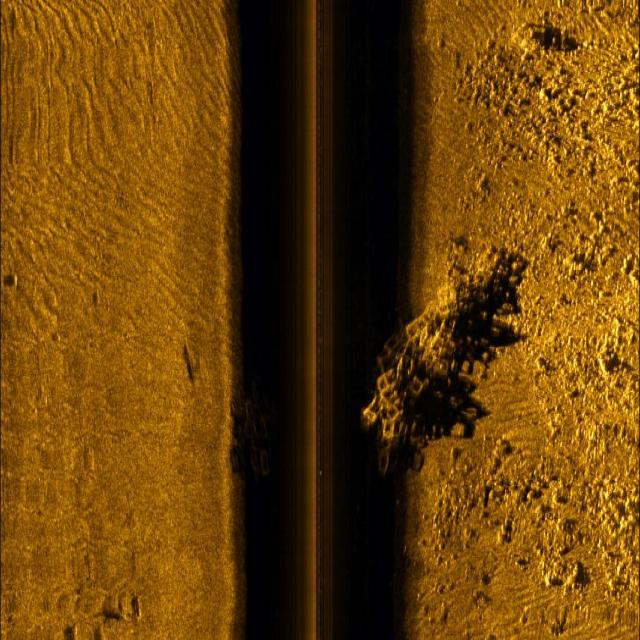artificial reef: (367, 233, 526, 479), (231, 380, 283, 486)
